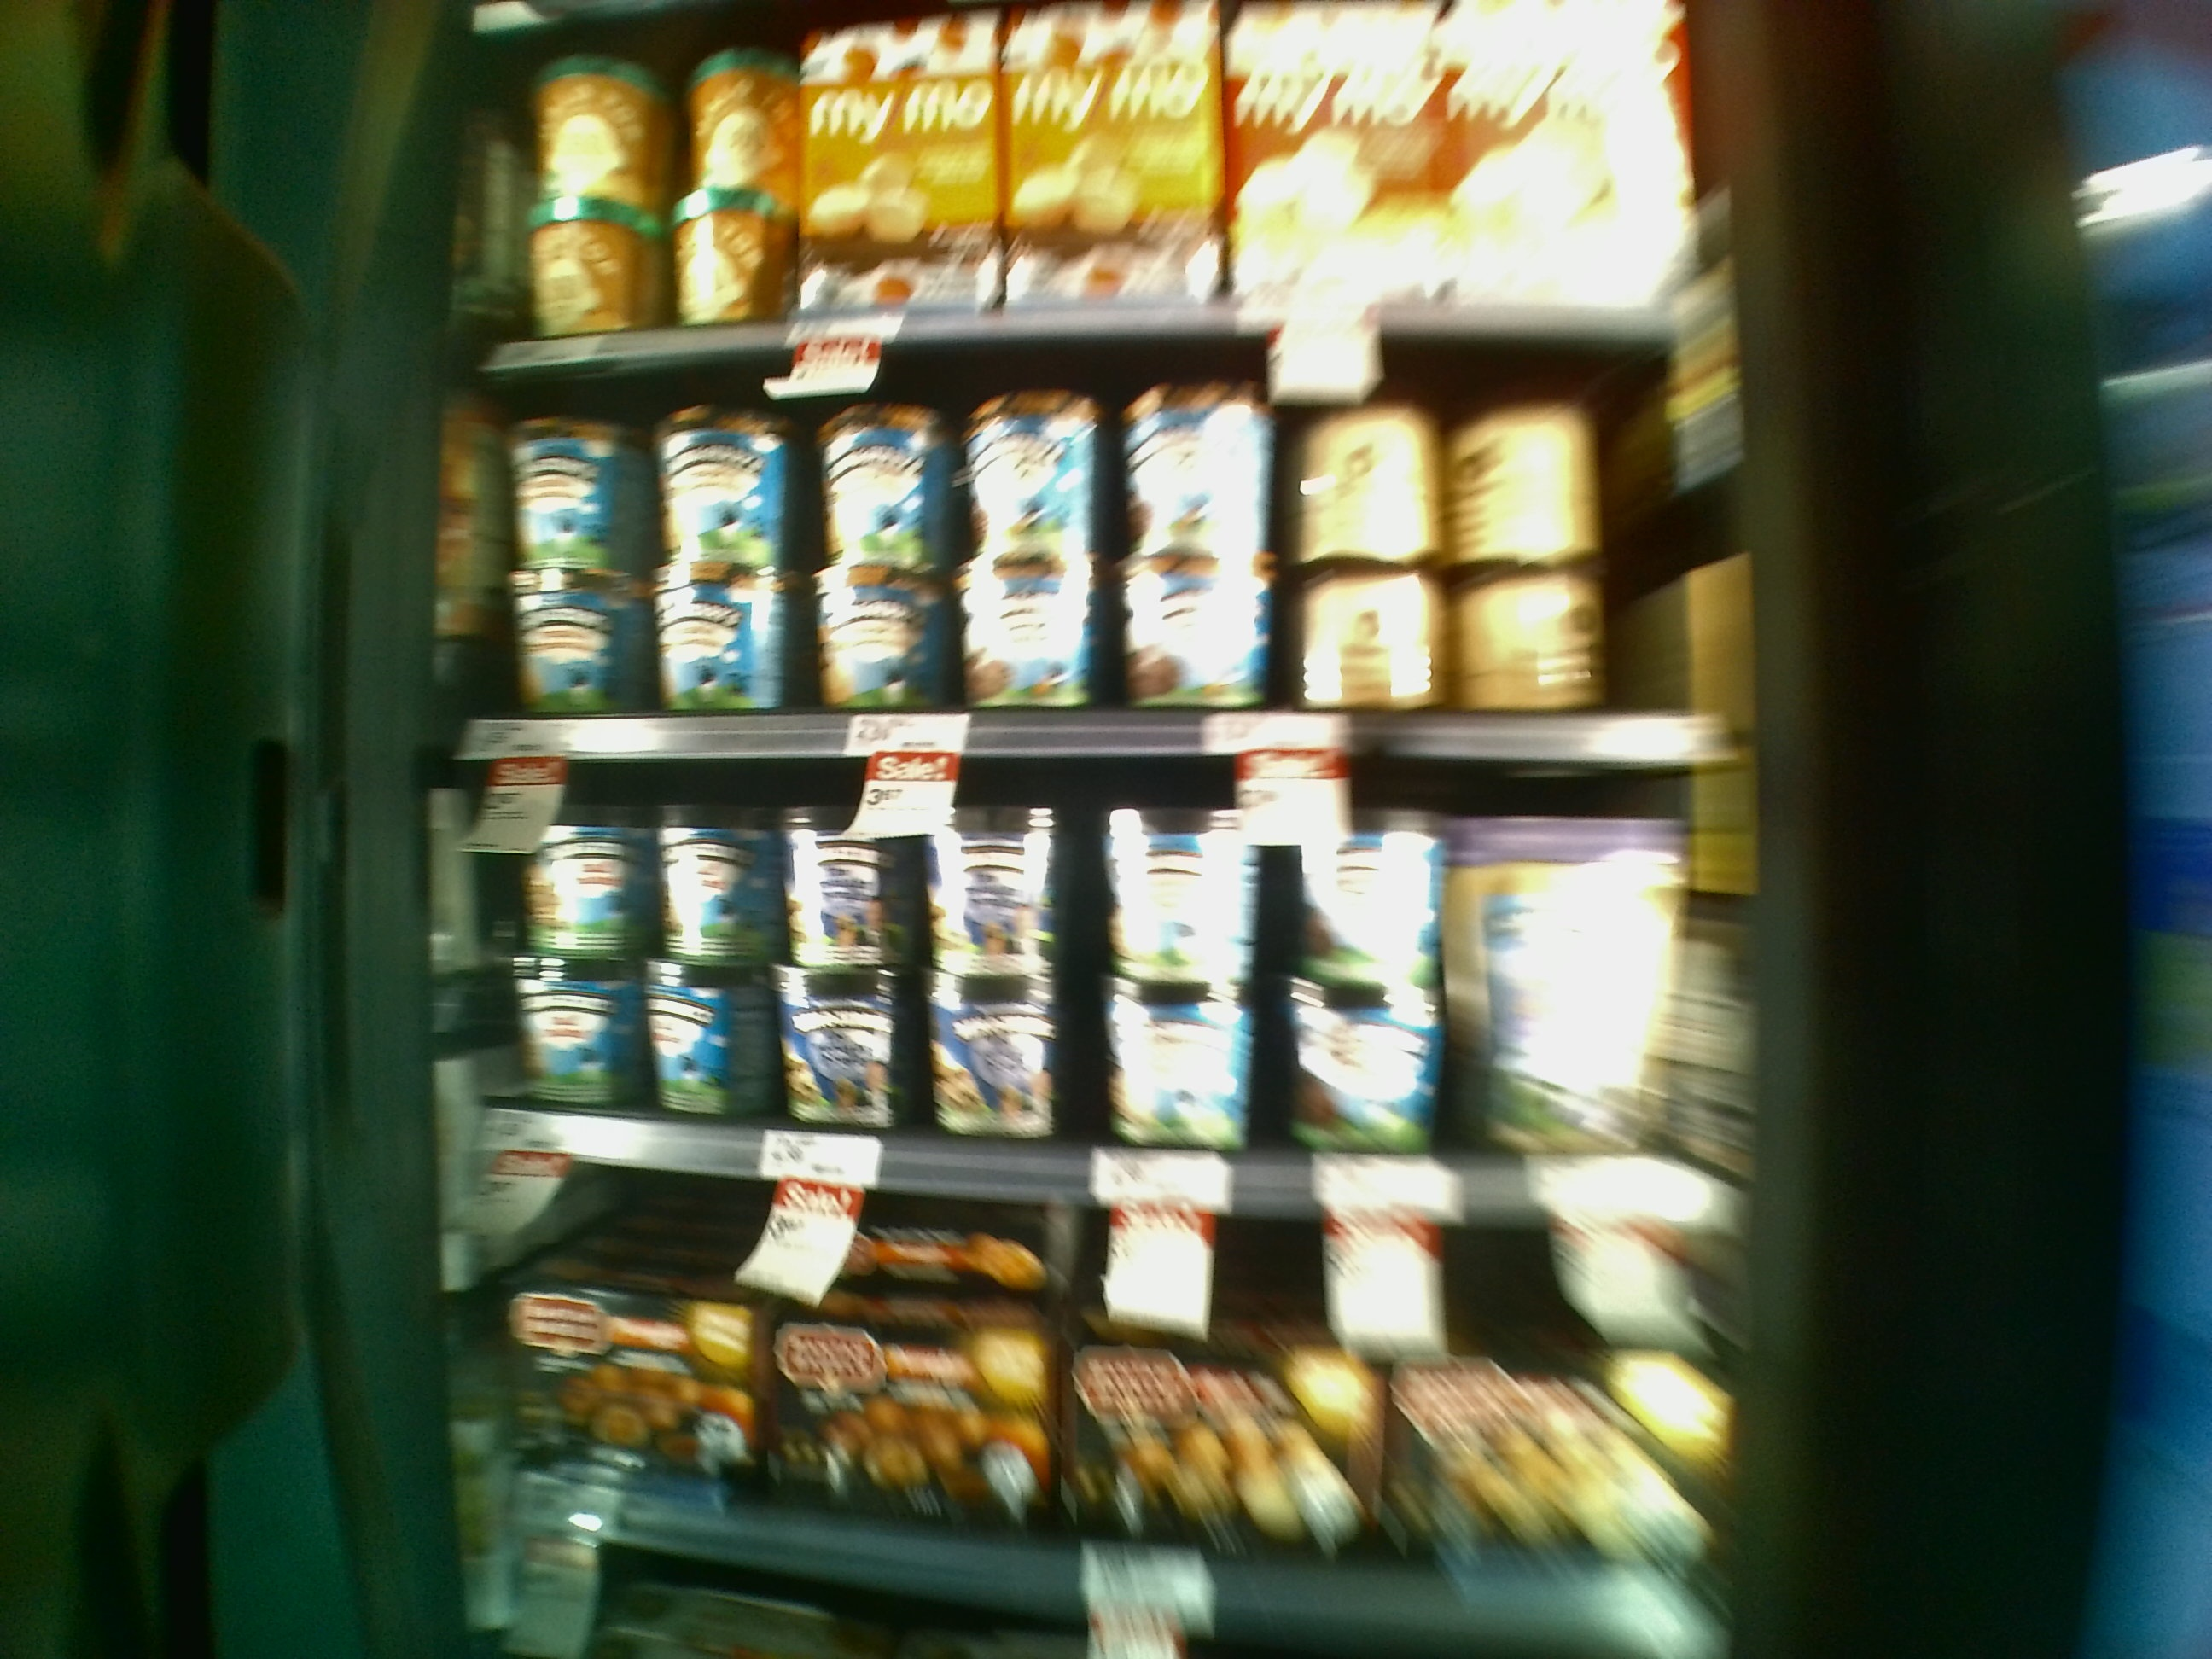shelf: (455, 737, 1747, 1213), (500, 1138, 1712, 1624), (462, 338, 1724, 765)
